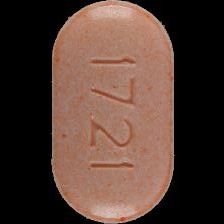61919-341: (0, 0, 224, 224)
